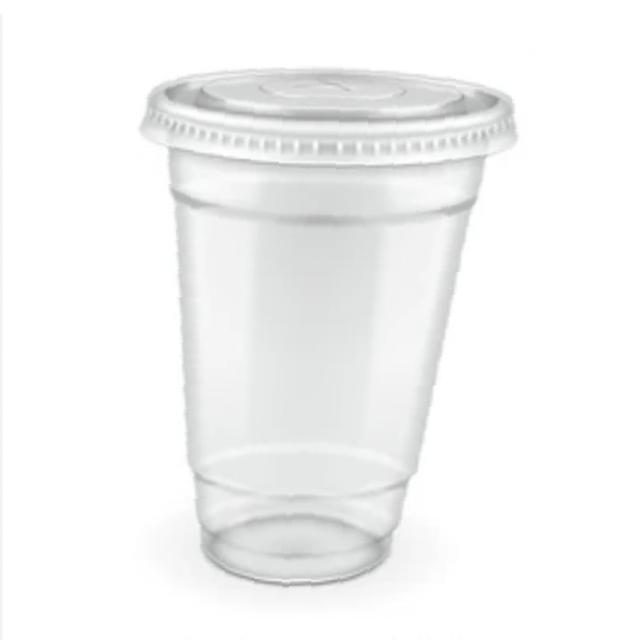recyclable: (111, 38, 538, 620)
